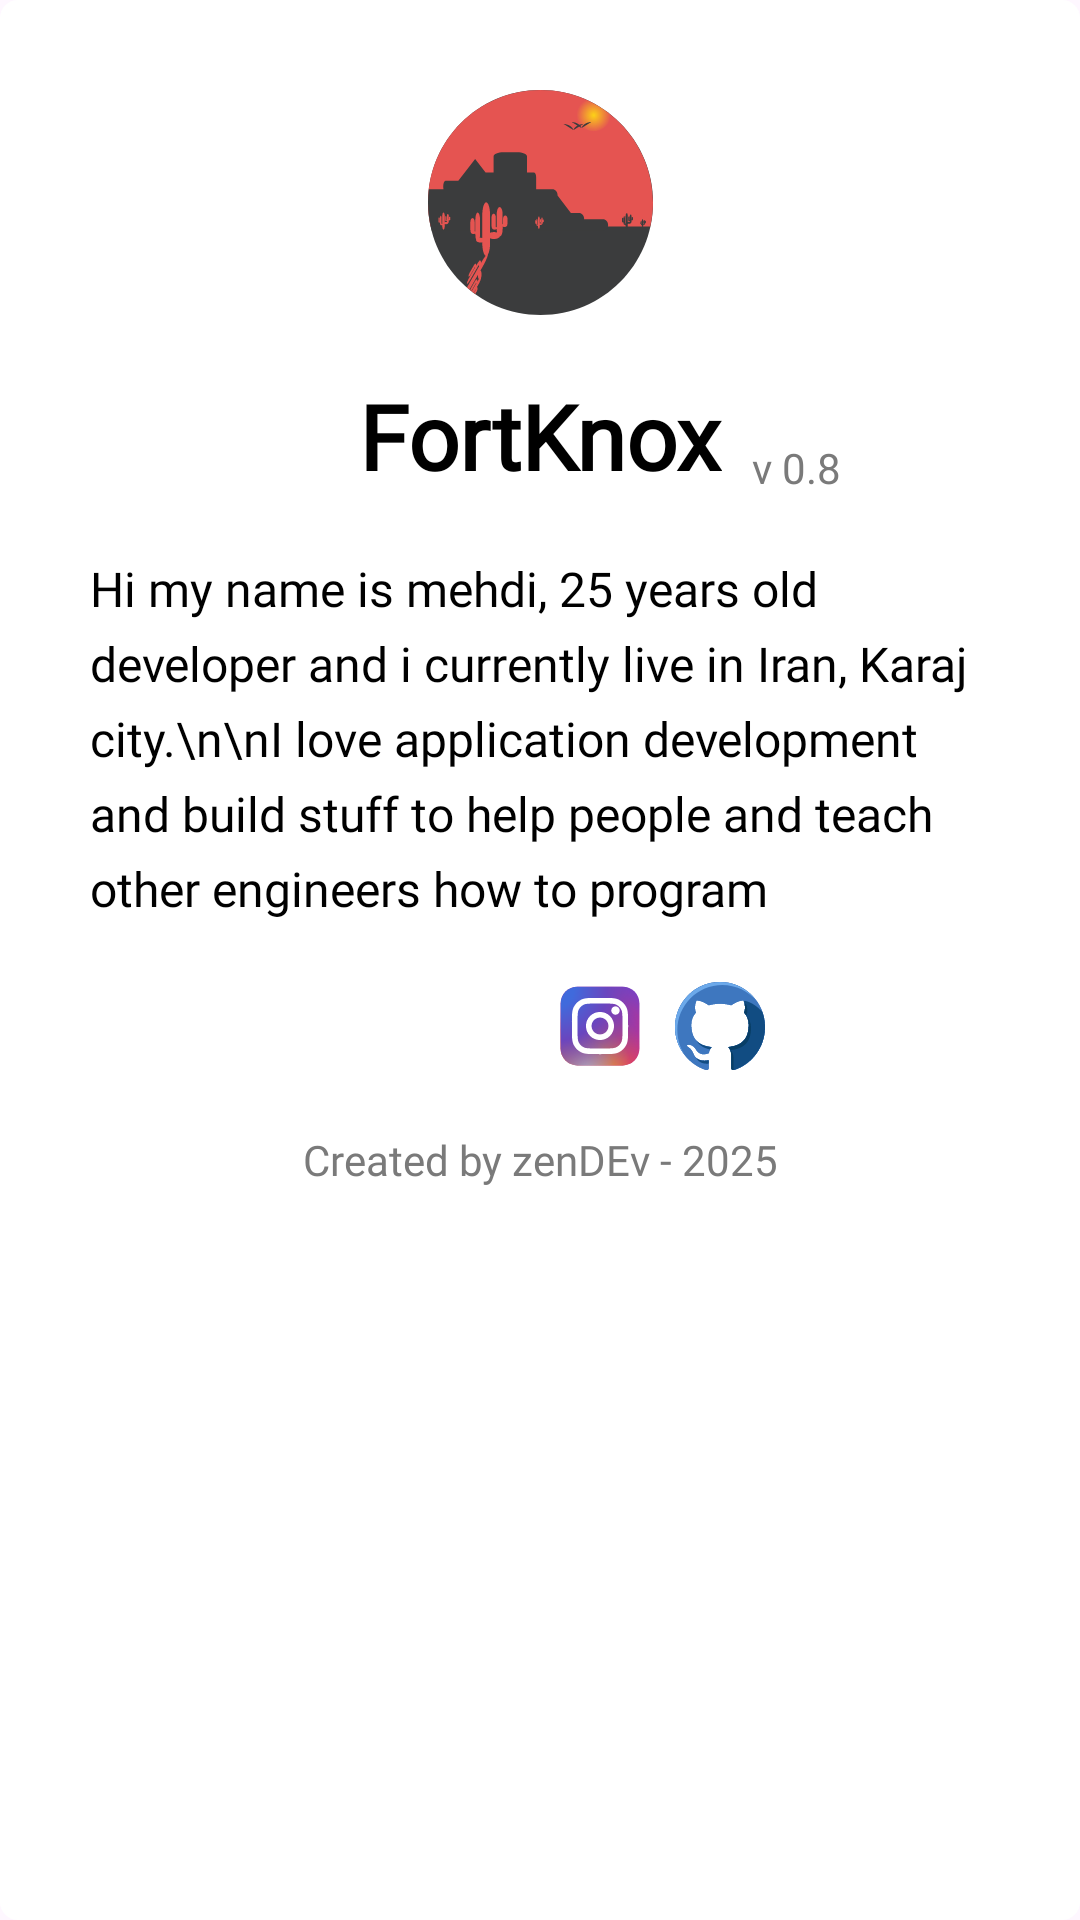

Named icons in this screenshot (1080*1920) and their centers, point (x, y):
desert fort: point (540, 202)
